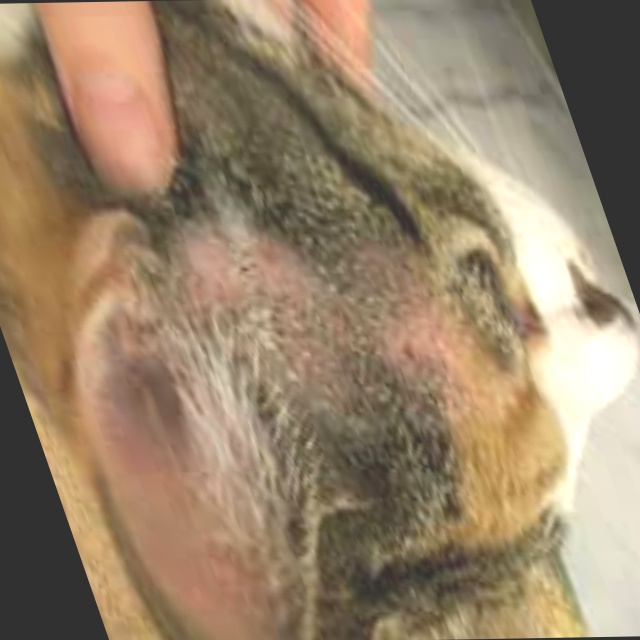ringworm: (344, 301, 502, 395), (207, 240, 298, 293)
